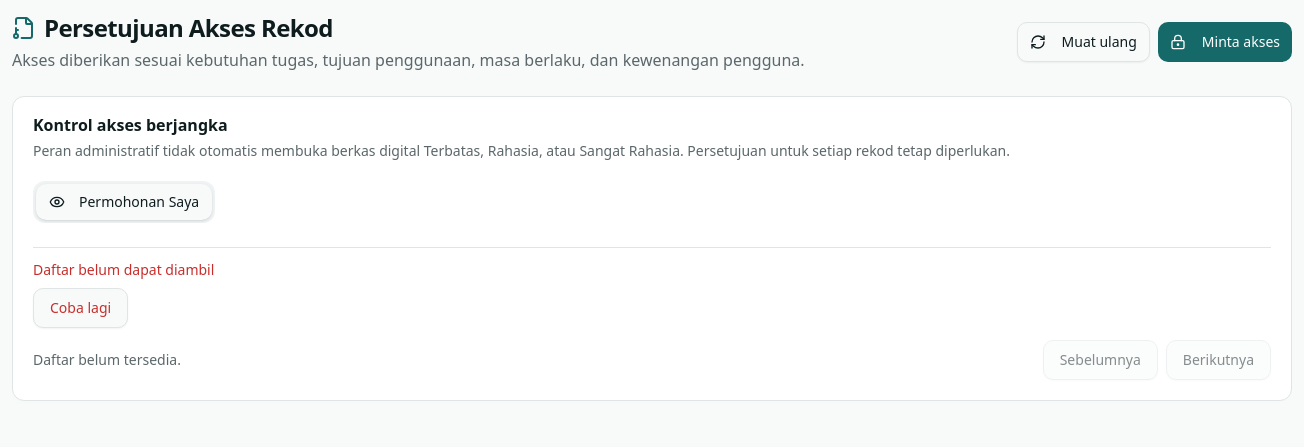
Test: record access pagination › never requests reviewer data for staff and distinguishes failure from an empty list
Expected: the message "Daftar belum dapat diambil Coba lagi" is shown, [33,260,214,328]
What coordinates should you click on to do the following:
click the button "Coba lagi"
I would click on:
 (81, 308)
Its box is [33,288,128,328].
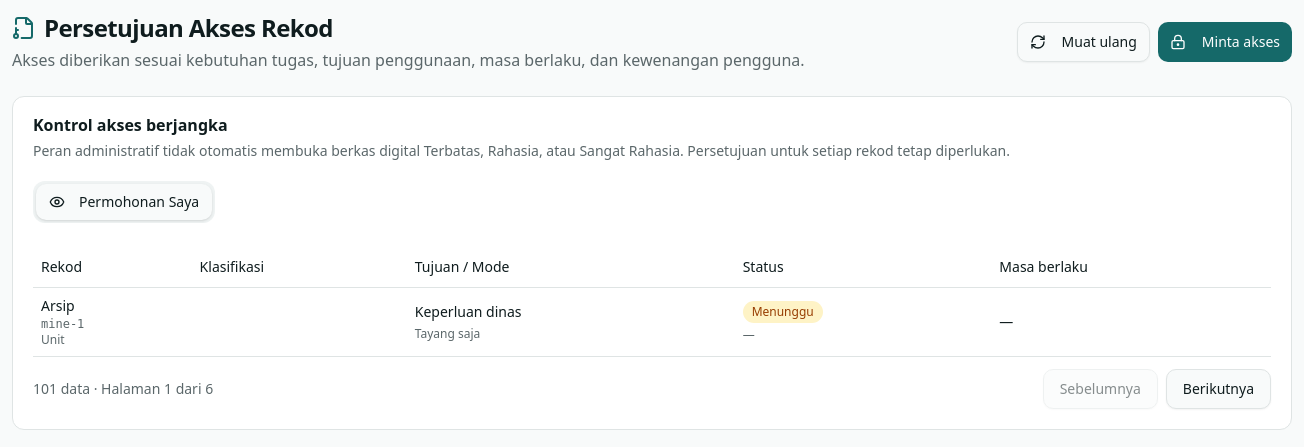
Result: the text "mine-1" is shown at [41,316,84,330]
